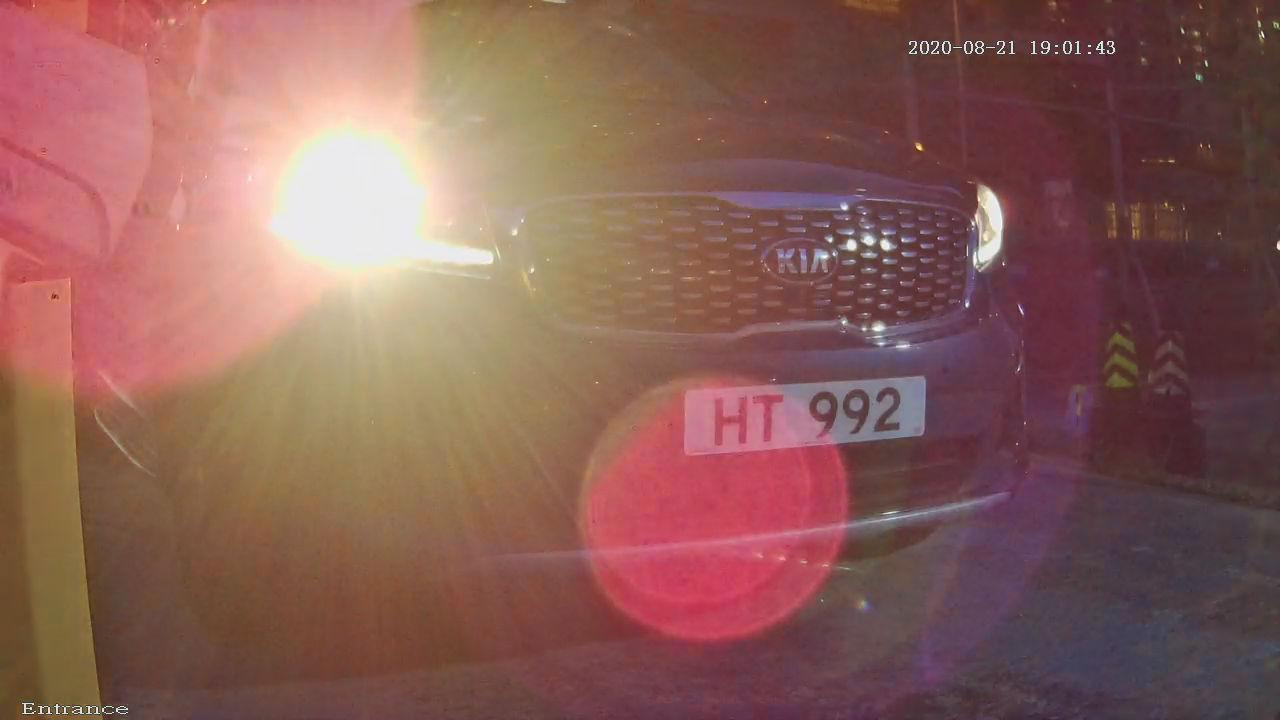Car: (41, 62, 1229, 650)
License Plate: (666, 359, 938, 471)
